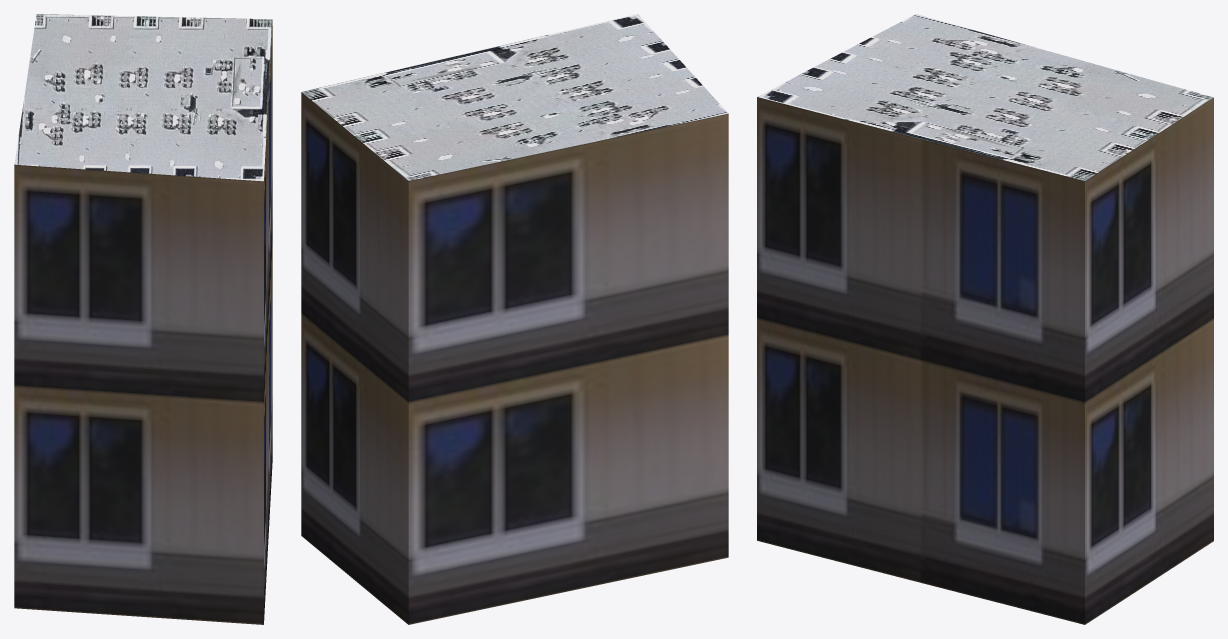
File: ResTex__720.fbx
The picture shows the model from 3 angles, left to right: view 1: azimuth 30°, elevation 25°; view 2: azimuth 150°, elevation 25°; view 3: azimuth 270°, elevation 25°; orthographic projection.
Visible parts, largest first — view 1: CityEngineMaterial_5_m, CityEngineMaterial_m; view 2: CityEngineMaterial_5_m, CityEngineMaterial_m; view 3: CityEngineMaterial_5_m, CityEngineMaterial_m.
Boxes of the visible parts, bbox=[...] form: CityEngineMaterial_5_m: bbox=[14, 20, 272, 624]; CityEngineMaterial_m: bbox=[14, 14, 272, 181]; CityEngineMaterial_5_m: bbox=[301, 92, 728, 624]; CityEngineMaterial_m: bbox=[302, 14, 728, 180]; CityEngineMaterial_5_m: bbox=[757, 97, 1213, 624]; CityEngineMaterial_m: bbox=[757, 14, 1213, 180].
Size of the model in its own units: 4.85 by 6 by 5.6.
2 materials, 2 textured.
